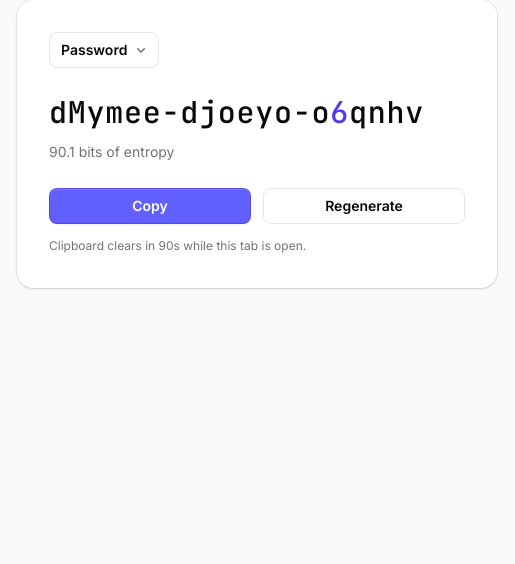
GeneratorCard — Custom Password and Memorable controls › removes the option controls for Secret 128
Click the button with aria-label "Format:": (104, 50) left=49, top=32, right=159, bottom=68
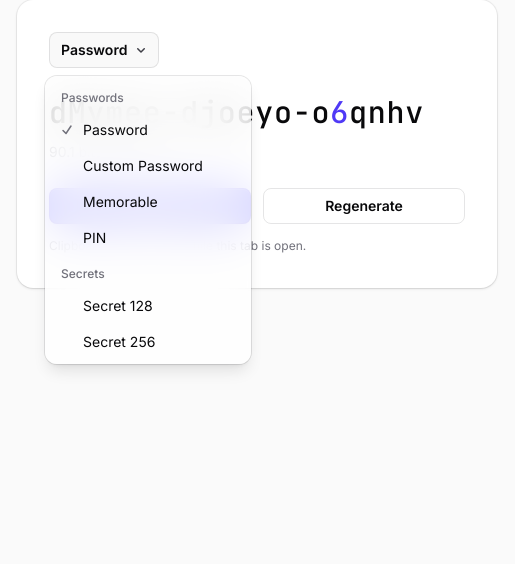
Click the menu item "Custom Password": (148, 166) left=49, top=148, right=247, bottom=184
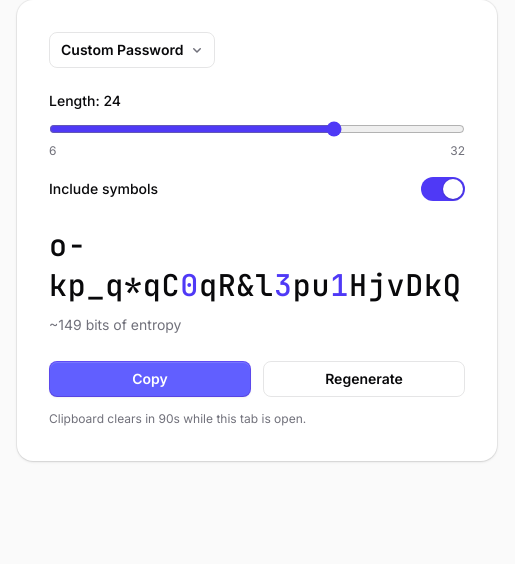
Click the button with aria-label "Format:": (132, 50) left=49, top=32, right=215, bottom=68
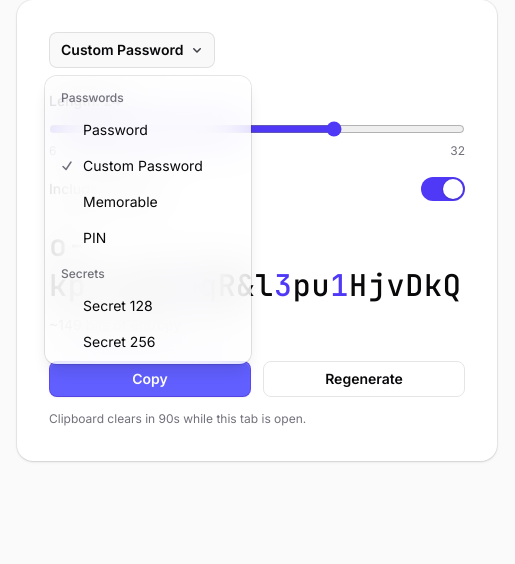
Click the menu item "Memorable": (148, 202) left=49, top=184, right=247, bottom=220
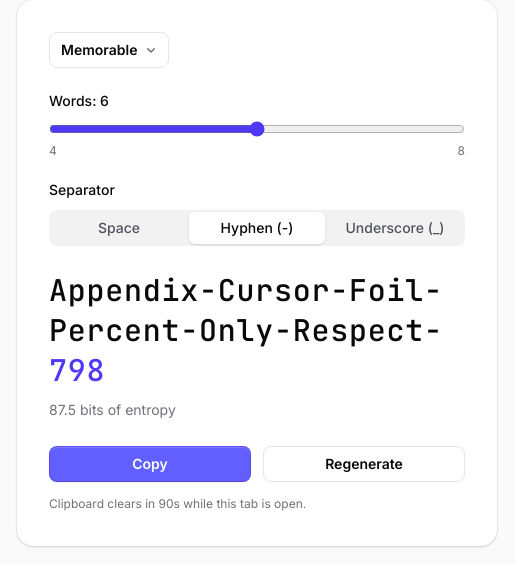
Click the button with aria-label "Format:": (109, 50) left=49, top=32, right=170, bottom=68
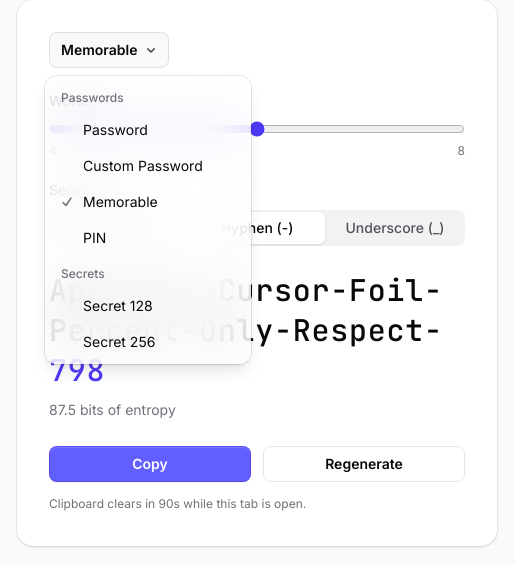
Click the menu item "Secret 128": (148, 306) left=49, top=288, right=247, bottom=324
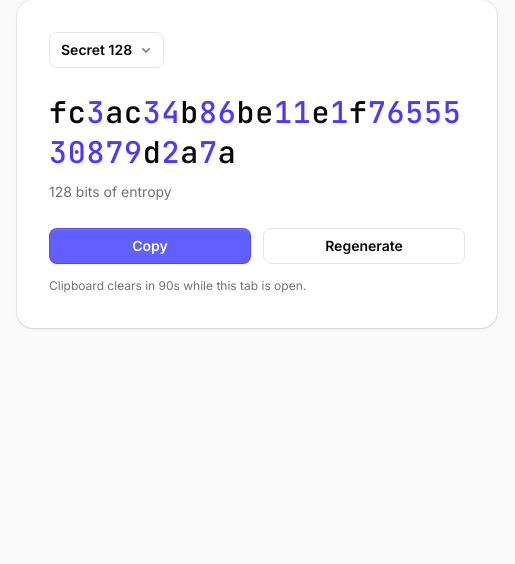
Now the slider is gone
Now the text "Separator" is gone
